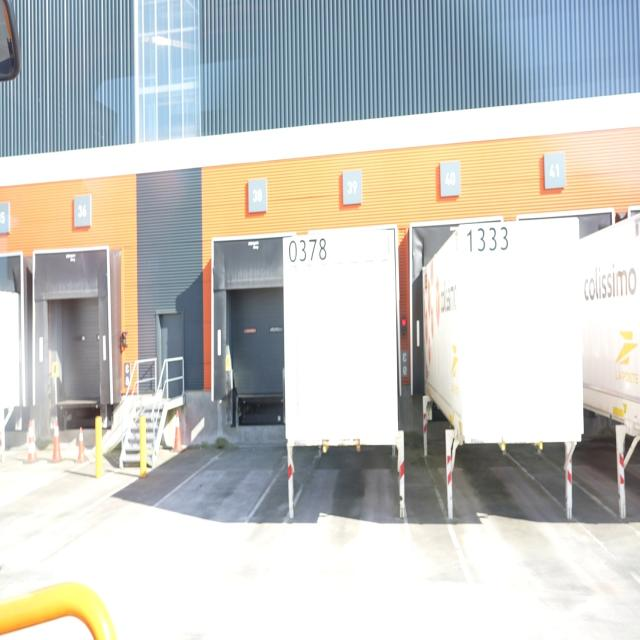Code: (465, 224, 510, 258), (288, 235, 327, 265)
